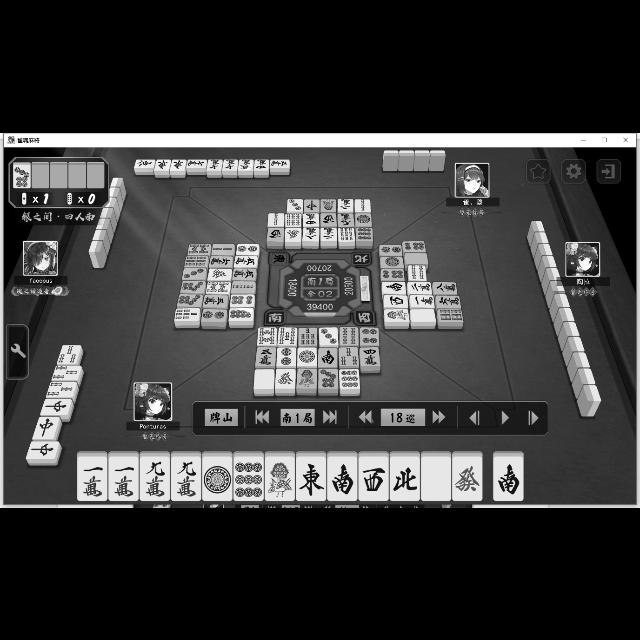1m: (77, 456, 107, 500), (109, 456, 139, 500), (409, 294, 435, 308)
1p: (202, 456, 232, 500), (298, 346, 316, 366), (380, 256, 404, 266), (356, 212, 372, 226)
1s: (265, 456, 295, 500), (297, 368, 317, 388), (384, 308, 410, 322), (322, 198, 336, 212)
2m: (408, 280, 432, 294), (336, 198, 354, 212), (319, 227, 336, 241)
2p: (277, 346, 297, 366), (202, 308, 226, 322), (236, 243, 260, 254), (380, 244, 402, 256)
2s: (231, 280, 255, 292), (210, 244, 236, 254), (355, 198, 371, 212), (268, 212, 284, 226)
3m: (255, 346, 275, 366), (203, 294, 227, 306), (270, 159, 290, 167)
3p: (318, 327, 338, 345), (182, 267, 206, 279), (286, 198, 304, 212)
3s: (46, 380, 76, 398), (56, 344, 82, 364), (51, 365, 83, 381), (337, 346, 359, 366)
4m: (358, 347, 379, 365), (303, 212, 319, 226), (254, 158, 268, 170)
4p: (360, 326, 380, 346)
4s: (339, 326, 357, 346), (408, 264, 426, 280)
5m: (232, 268, 256, 280), (235, 255, 258, 267), (237, 158, 253, 170)
5s: (278, 327, 296, 345)
6m: (435, 294, 461, 308), (210, 255, 232, 268)
6p: (230, 292, 254, 306), (380, 268, 404, 280), (402, 241, 426, 251)
6s: (438, 309, 462, 321), (184, 256, 208, 266), (285, 213, 301, 227)
7m: (186, 158, 206, 168), (206, 158, 222, 170), (222, 158, 238, 170)
7p: (318, 368, 338, 388), (13, 164, 31, 186), (177, 294, 203, 306), (181, 280, 205, 292)
7s: (298, 326, 316, 346), (174, 308, 198, 320)
8m: (433, 282, 457, 294), (303, 226, 319, 242)
8p: (229, 308, 253, 320)
8s: (206, 280, 230, 294), (258, 327, 276, 345), (187, 243, 211, 254)
9m: (140, 456, 170, 500), (172, 456, 200, 499), (337, 212, 355, 225)
9p: (233, 456, 263, 500), (340, 368, 360, 388), (356, 226, 372, 240)
9s: (338, 227, 354, 241)
chun: (24, 440, 60, 458), (31, 416, 59, 438), (40, 398, 70, 414), (304, 198, 320, 212)
haku: (421, 456, 451, 499), (254, 368, 274, 388), (410, 308, 436, 322), (405, 252, 429, 262)
hatsu: (452, 456, 482, 500), (276, 368, 294, 388), (208, 268, 232, 280), (286, 228, 302, 240)
nan: (327, 456, 357, 500), (493, 456, 523, 500), (319, 347, 337, 367), (382, 281, 406, 293)
pe: (390, 456, 420, 500)
sha: (358, 456, 388, 499), (384, 294, 408, 308), (319, 212, 336, 226), (266, 228, 284, 240)
tou: (294, 456, 326, 500), (134, 158, 154, 168), (170, 158, 186, 170), (156, 158, 170, 170)
